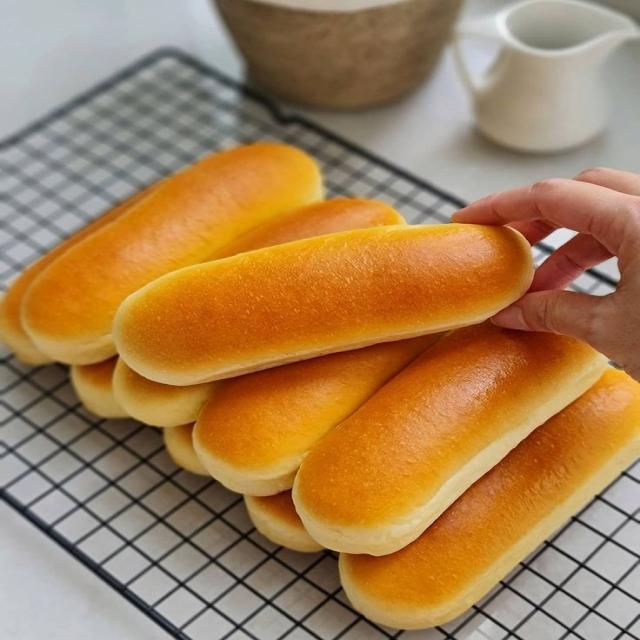bread: (340, 369, 639, 628), (294, 323, 606, 555), (114, 225, 532, 384), (21, 143, 321, 363), (194, 334, 440, 495), (0, 186, 154, 364), (212, 198, 403, 258), (214, 198, 404, 258), (114, 358, 217, 428), (245, 491, 322, 552), (71, 357, 128, 418), (163, 424, 208, 475)
